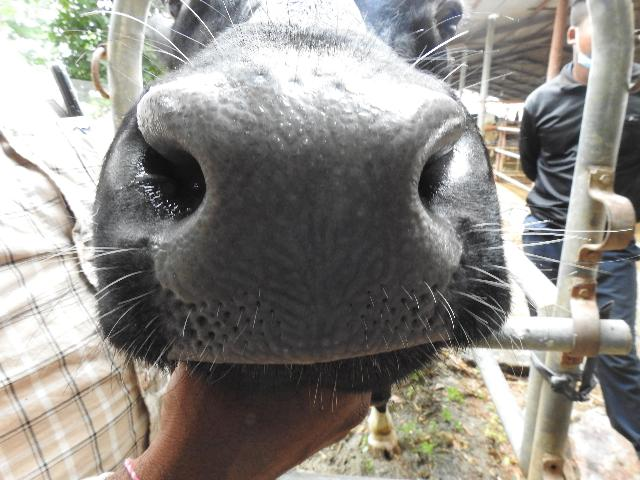Muzzle: (210, 95, 414, 338)
